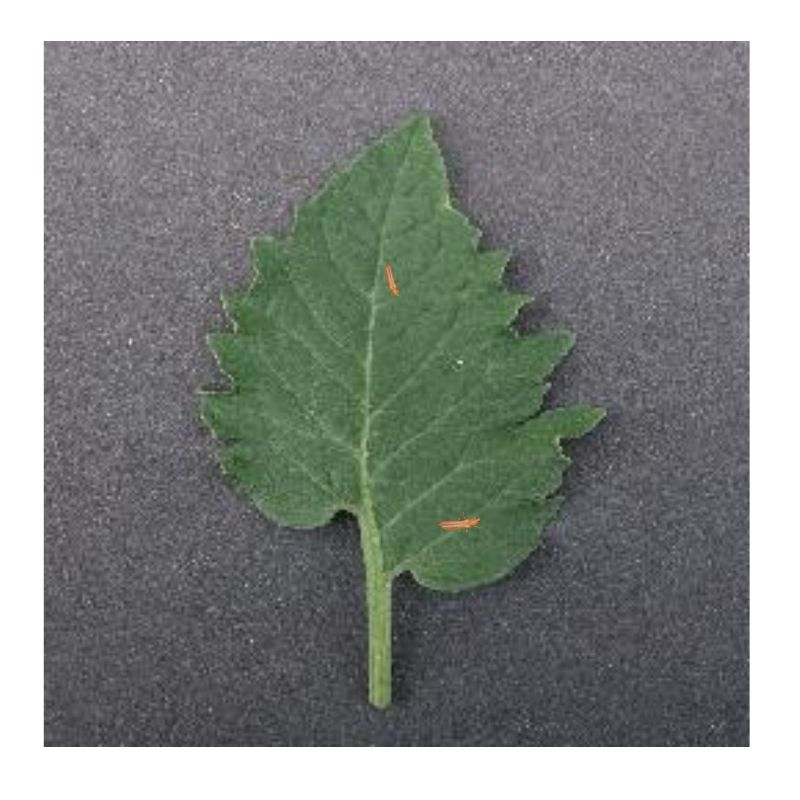thrips: (439, 512, 481, 532), (382, 262, 403, 298)
